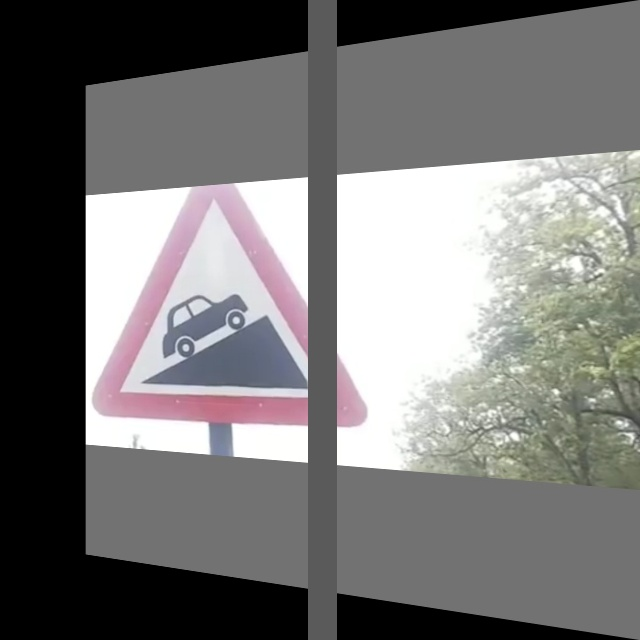Steep_Ascent: (103, 190, 361, 429)
